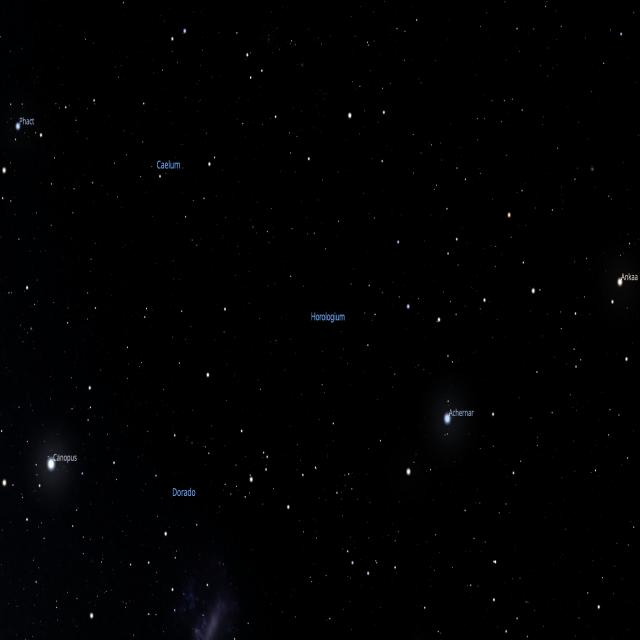Horologium: (206, 156, 372, 433)
